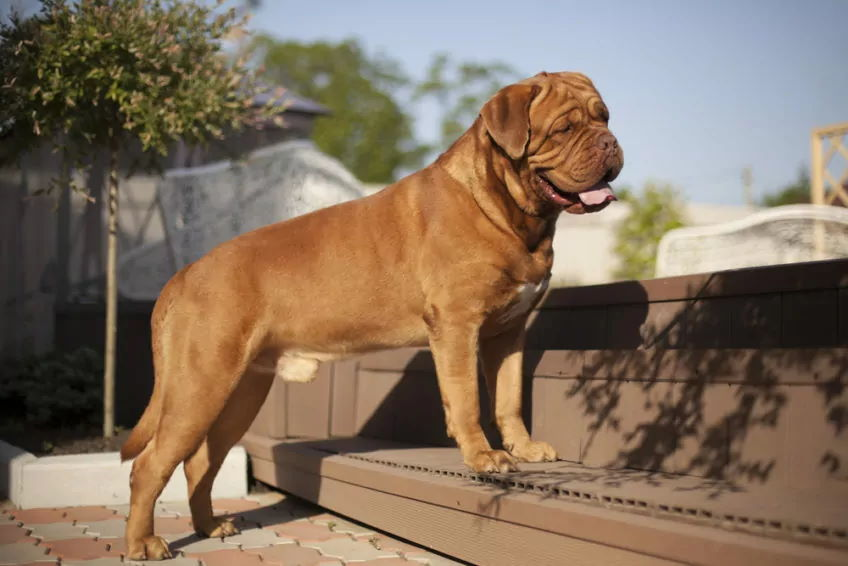dogue_de_bordeaux: (120, 70, 625, 562)
